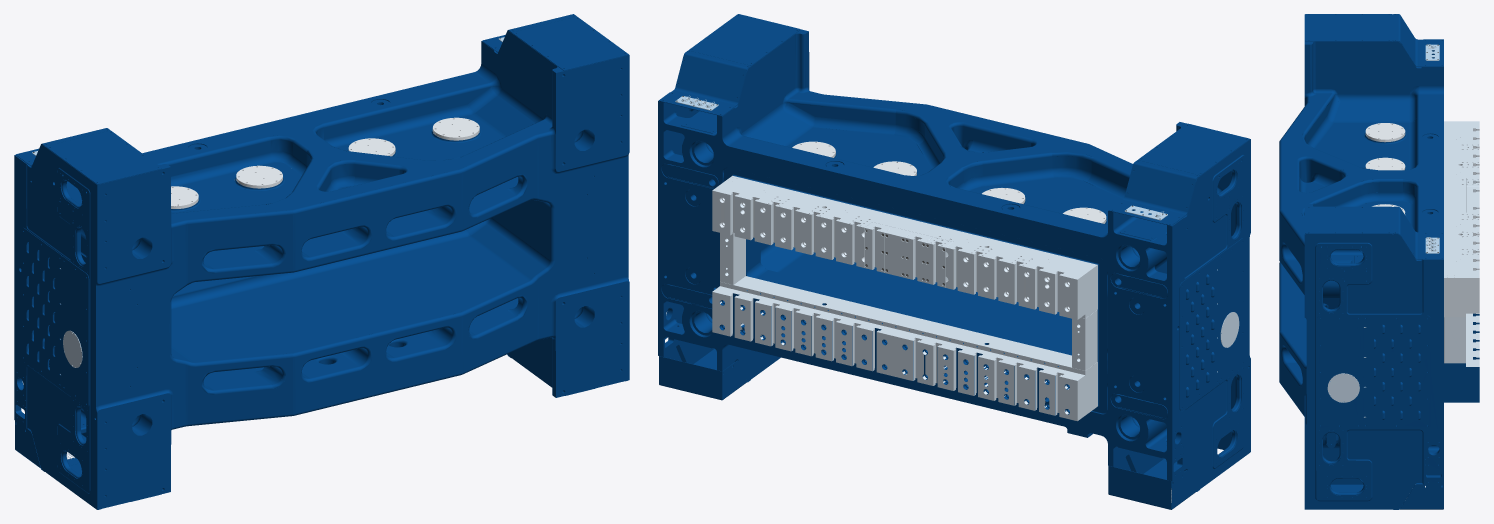
The picture shows the model from 3 angles, left to right: view 1: azimuth 30°, elevation 25°; view 2: azimuth 150°, elevation 25°; view 3: azimuth 270°, elevation 25°; orthographic projection. The views are drawn at different scales.
Visible parts, largest first — view 1: M8x1.25 螺紋孔20, 直線複製排列3, 圓角1.008, 圓角1.011, 圓角2, 填料-伸長1.004, 填料-伸長1; view 2: M8x1.25 螺紋孔20, 導角1.013, 直線複製排列3, 圓角1.008, 圓角1.011, 圓角2, 圓角2.001; view 3: M8x1.25 螺紋孔20, 直線複製排列3.001, 導角1.013, 圓角1.011, 圓角1.008, 圓角2.001, 填料-伸長1.001, 填料-伸長1.
Part boxes in pixels (x1,y1,x2,y2): M8x1.25 螺紋孔20: (14,16,629,509); 直線複製排列3: (21,227,89,407); 圓角1.008: (16,128,161,184); 圓角1.011: (482,14,628,70); 圓角2: (15,420,161,509); 填料-伸長1.004: (432,117,479,140); 填料-伸長1: (236,165,282,188); M8x1.25 螺紋孔20: (658,27,1250,490); 導角1.013: (712,175,1097,421); 直線複製排列3: (1179,238,1244,411); 圓角1.008: (1109,123,1249,225); 圓角1.011: (659,14,800,116); 圓角2: (1108,457,1228,509); 圓角2.001: (659,347,777,400); M8x1.25 螺紋孔20: (1279,14,1443,509); 直線複製排列3.001: (1317,315,1430,428); 導角1.013: (1444,121,1479,402); 圓角1.011: (1305,206,1443,259); 圓角1.008: (1305,14,1443,66); 圓角2.001: (1330,470,1443,509); 填料-伸長1.001: (1365,123,1405,142); 填料-伸長1: (1365,157,1405,170).
Size of the model in its own units: 3.84 by 2.22 by 1.46.
